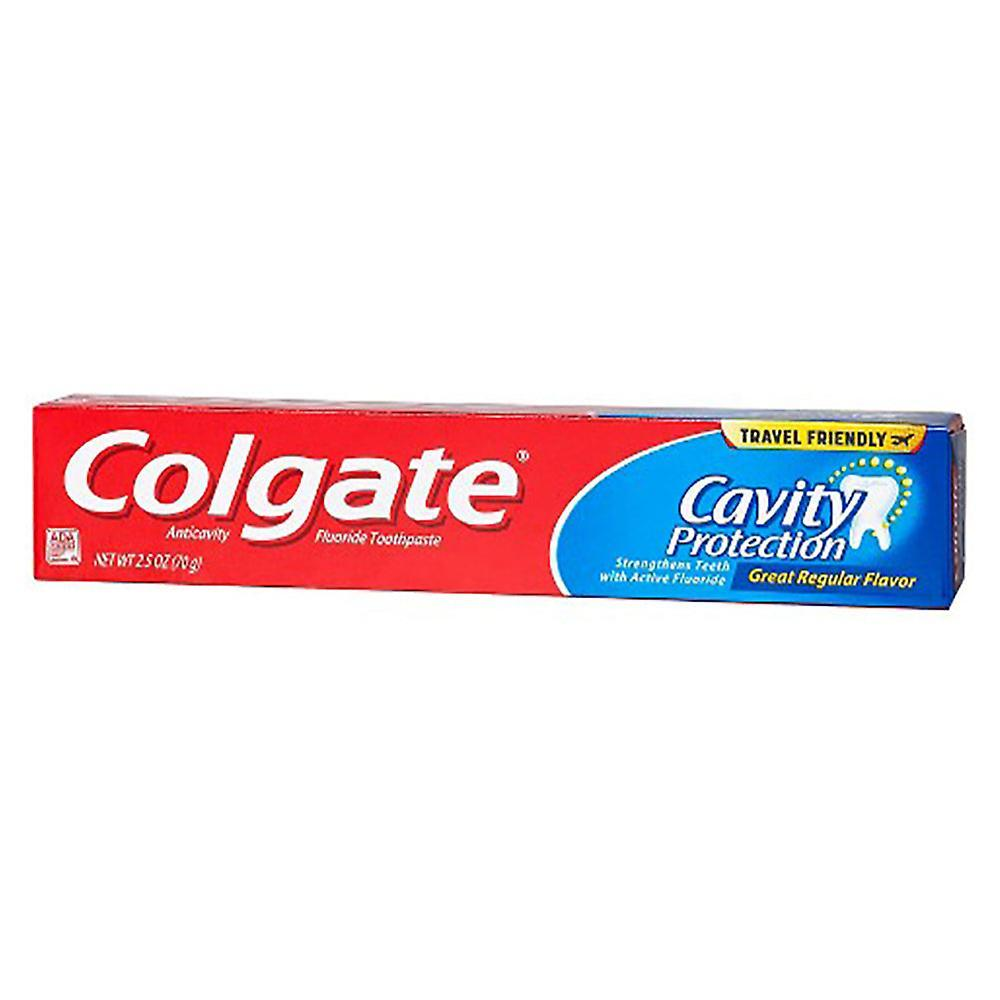Colgate: (36, 390, 966, 613)
